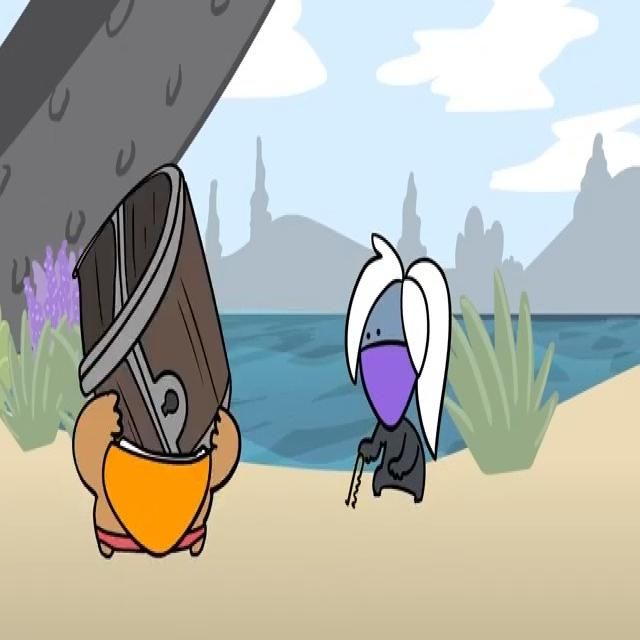Haagen-Daz: (72, 390, 242, 559)
miss Demeanor: (345, 233, 452, 503)
